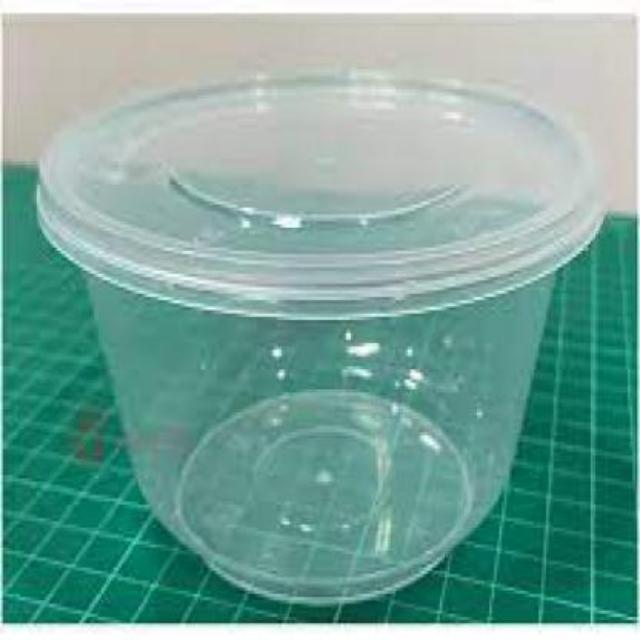plastic_box: (38, 67, 606, 603)
